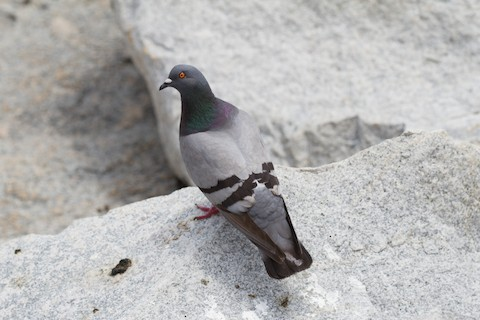pigeon: (155, 59, 318, 282)
